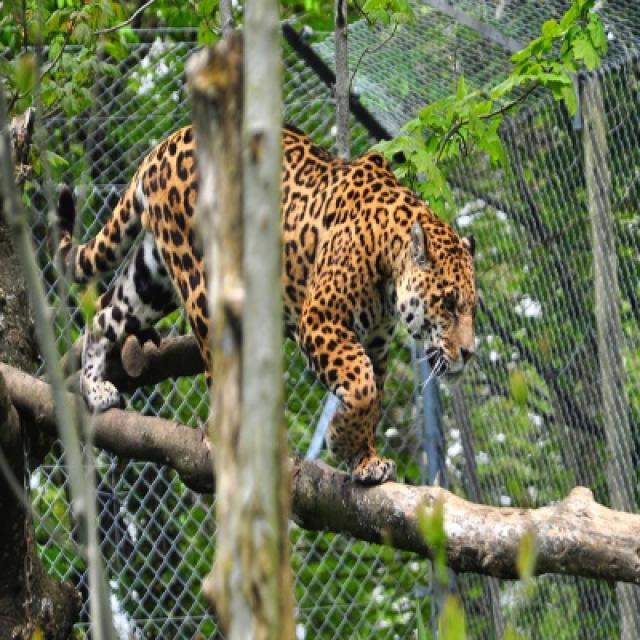Jaguar: (283, 126, 477, 469), (70, 126, 210, 416)
